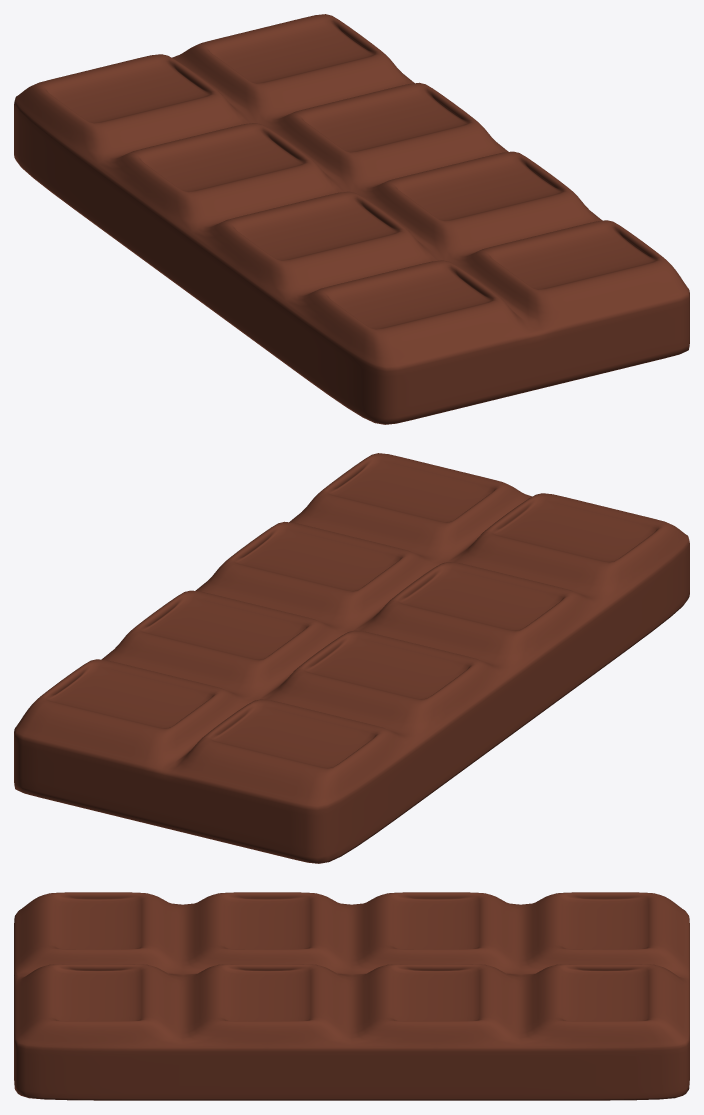
Rendered from ChocolateBar1.6.fbx.
3 renders of one model, top to bottom at view 1: azimuth 30°, elevation 25°; view 2: azimuth 150°, elevation 25°; view 3: azimuth 270°, elevation 25°, orthographic. The views are drawn at different scales.
Visible parts, largest first — view 1: Plane; view 2: Plane; view 3: Plane.
Part boxes in pixels (x1=…): Plane: x1=14, y1=14, x2=689, y2=424; Plane: x1=14, y1=453, x2=689, y2=863; Plane: x1=14, y1=892, x2=689, y2=1100.
Bounding box in the file's own units: 200 × 47.12 × 398.
